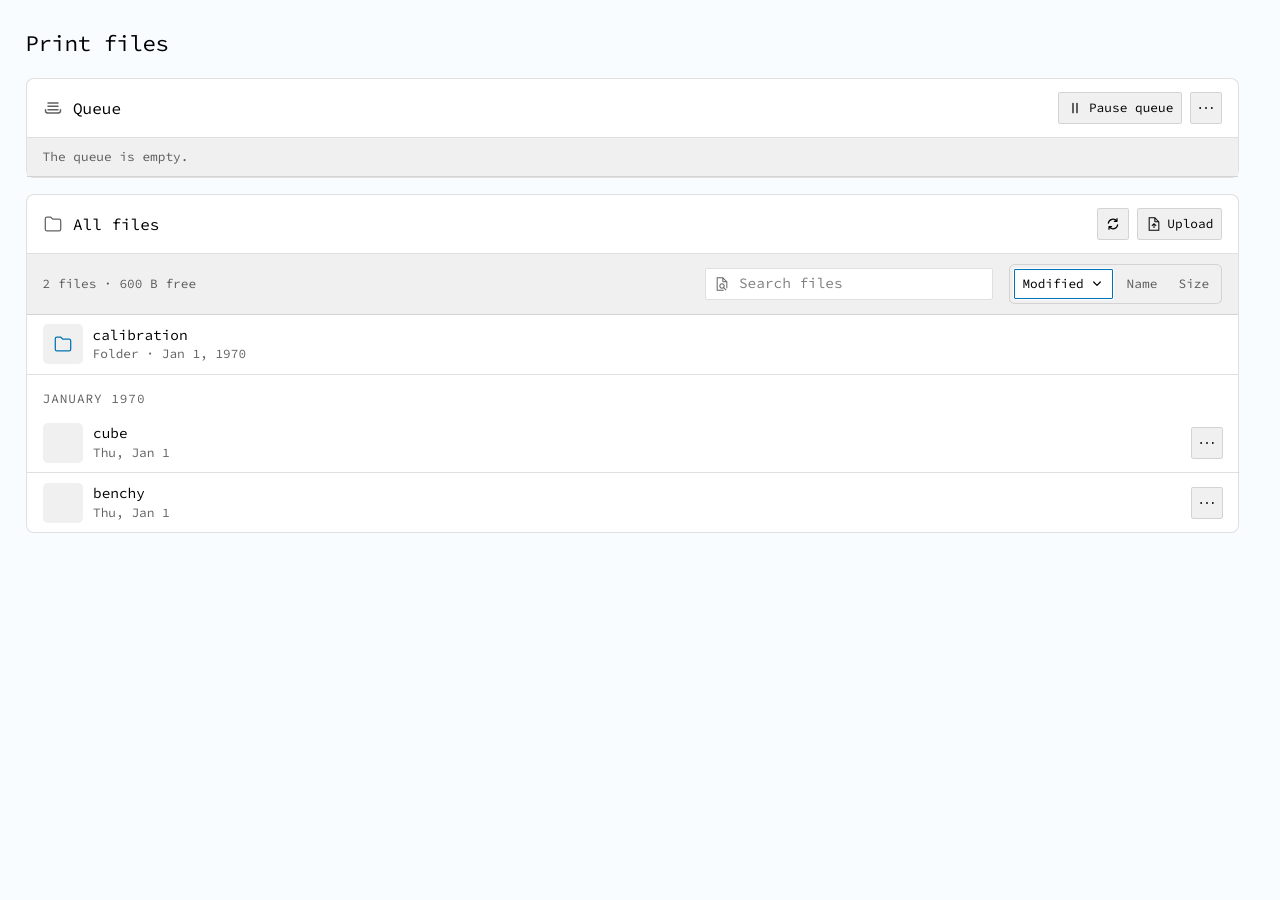
Test case: Print files view › shows what the slicer said about the chosen file beneath its own row
The width and height of the screenshot is (1280, 900).
Click the button with class "machine-row__toggle" showing "cube Thu, Jan 1": (63, 443) x1=43 y1=423 x2=1050 y2=463
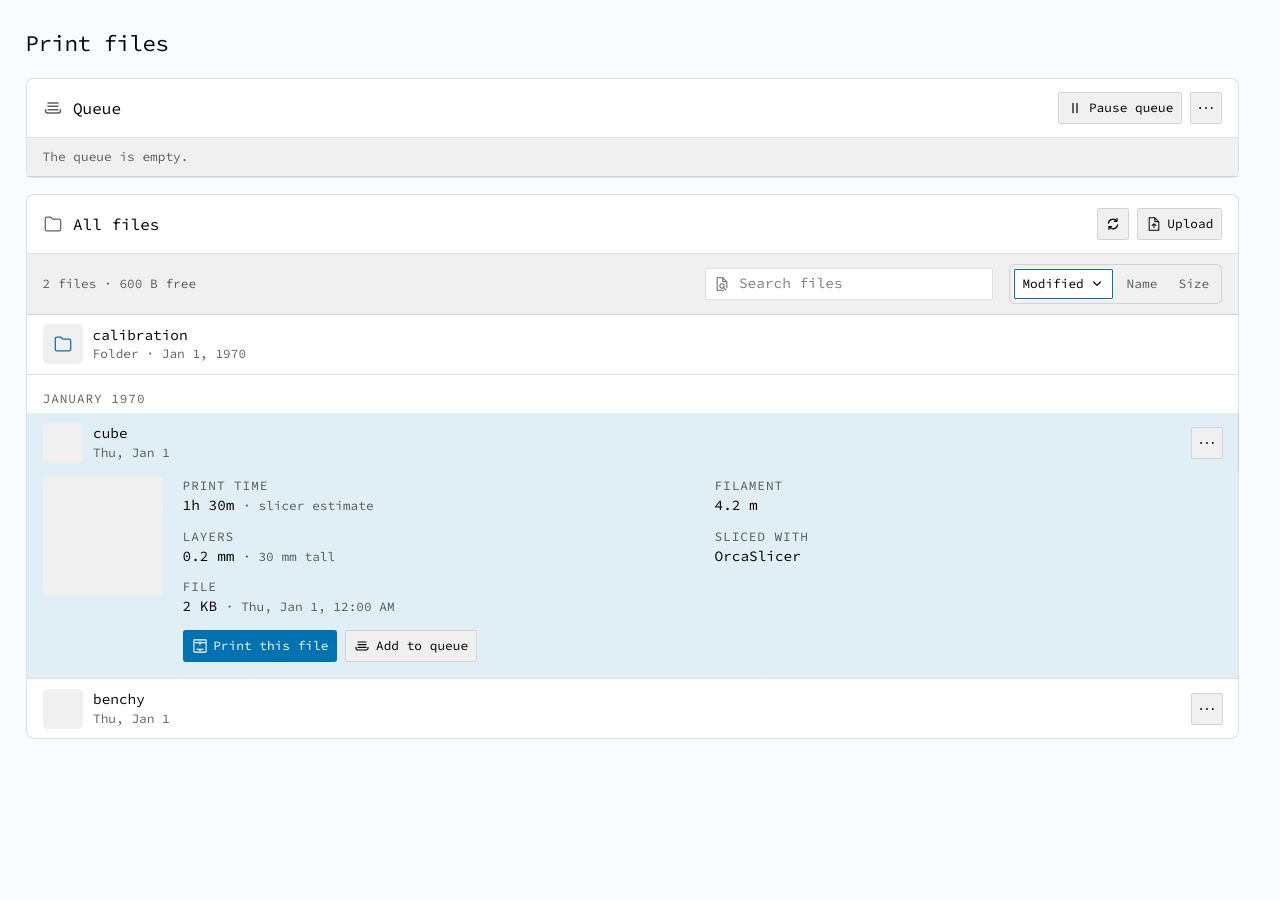
Expected: the element with class "machine-row-expansion" shows "1h 30m", x1=183 y1=496 x2=243 y2=514
Expected: the element with class "machine-row-expansion" shows "4.2 m", x1=714 y1=496 x2=758 y2=514
Expected: the element with class "machine-row-expansion" shows "OrcaSlicer", x1=714 y1=547 x2=801 y2=565
